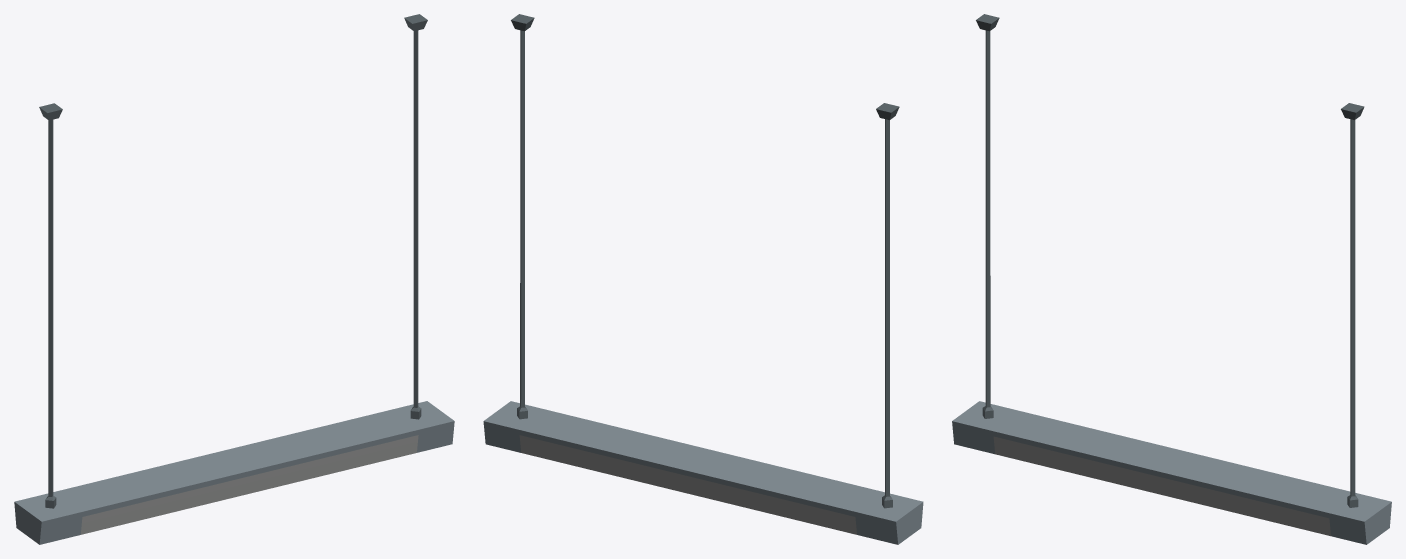
File: SM_Prop_Lighting_Ceiling_Bar_11.obj
3 views of the same model, side by side, from view 1: azimuth 30°, elevation 25°; view 2: azimuth 150°, elevation 25°; view 3: azimuth 330°, elevation 25° (orthographic).
Visible parts, largest first — view 1: SM_Prop_Lighting_Ceiling_Bar_11_0; view 2: SM_Prop_Lighting_Ceiling_Bar_11_0; view 3: SM_Prop_Lighting_Ceiling_Bar_11_0.
Part boxes in pixels (x1,y1,x2,y2): SM_Prop_Lighting_Ceiling_Bar_11_0: (14,14,454,544); SM_Prop_Lighting_Ceiling_Bar_11_0: (483,14,923,544); SM_Prop_Lighting_Ceiling_Bar_11_0: (952,14,1391,544).
Size of the model in its own units: 1.7 by 1.66 by 0.1957.
1 material, 1 textured.
